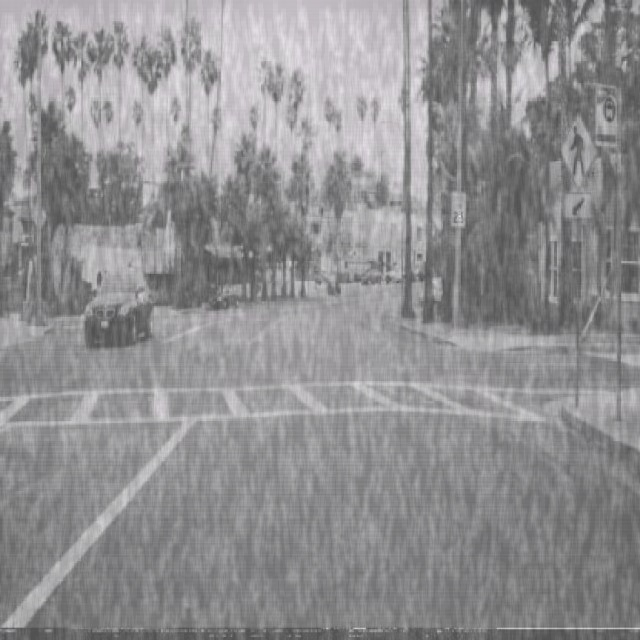pedestrianCrossing: (560, 112, 598, 192)
speedLimit25: (451, 189, 466, 228)
